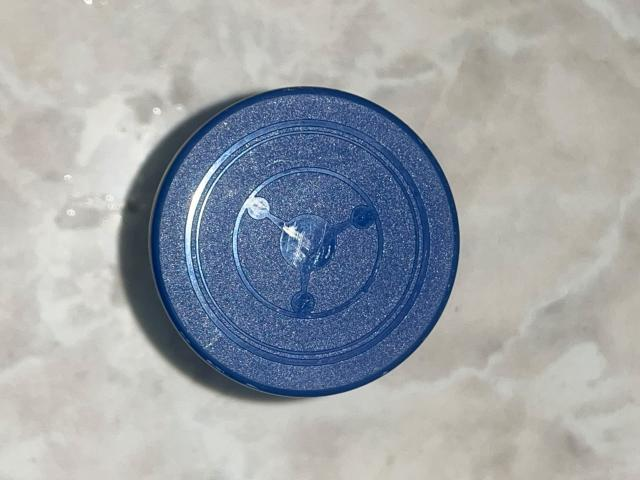HDPE: (99, 52, 494, 424)
